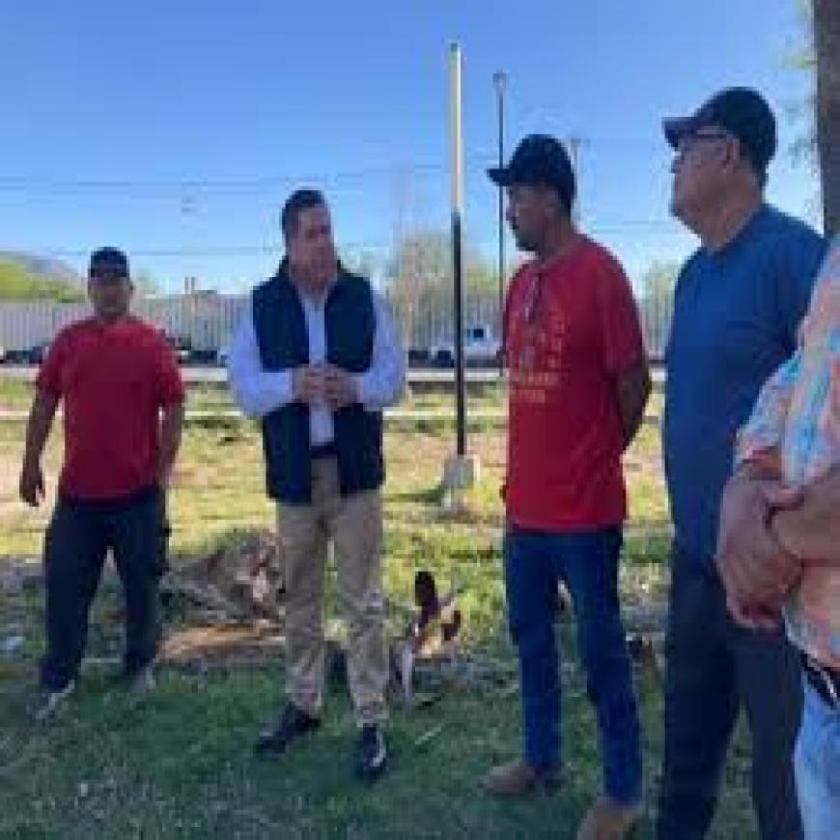Sin_casco: (658, 75, 779, 247), (485, 125, 586, 264), (279, 181, 341, 295), (83, 241, 136, 333)
